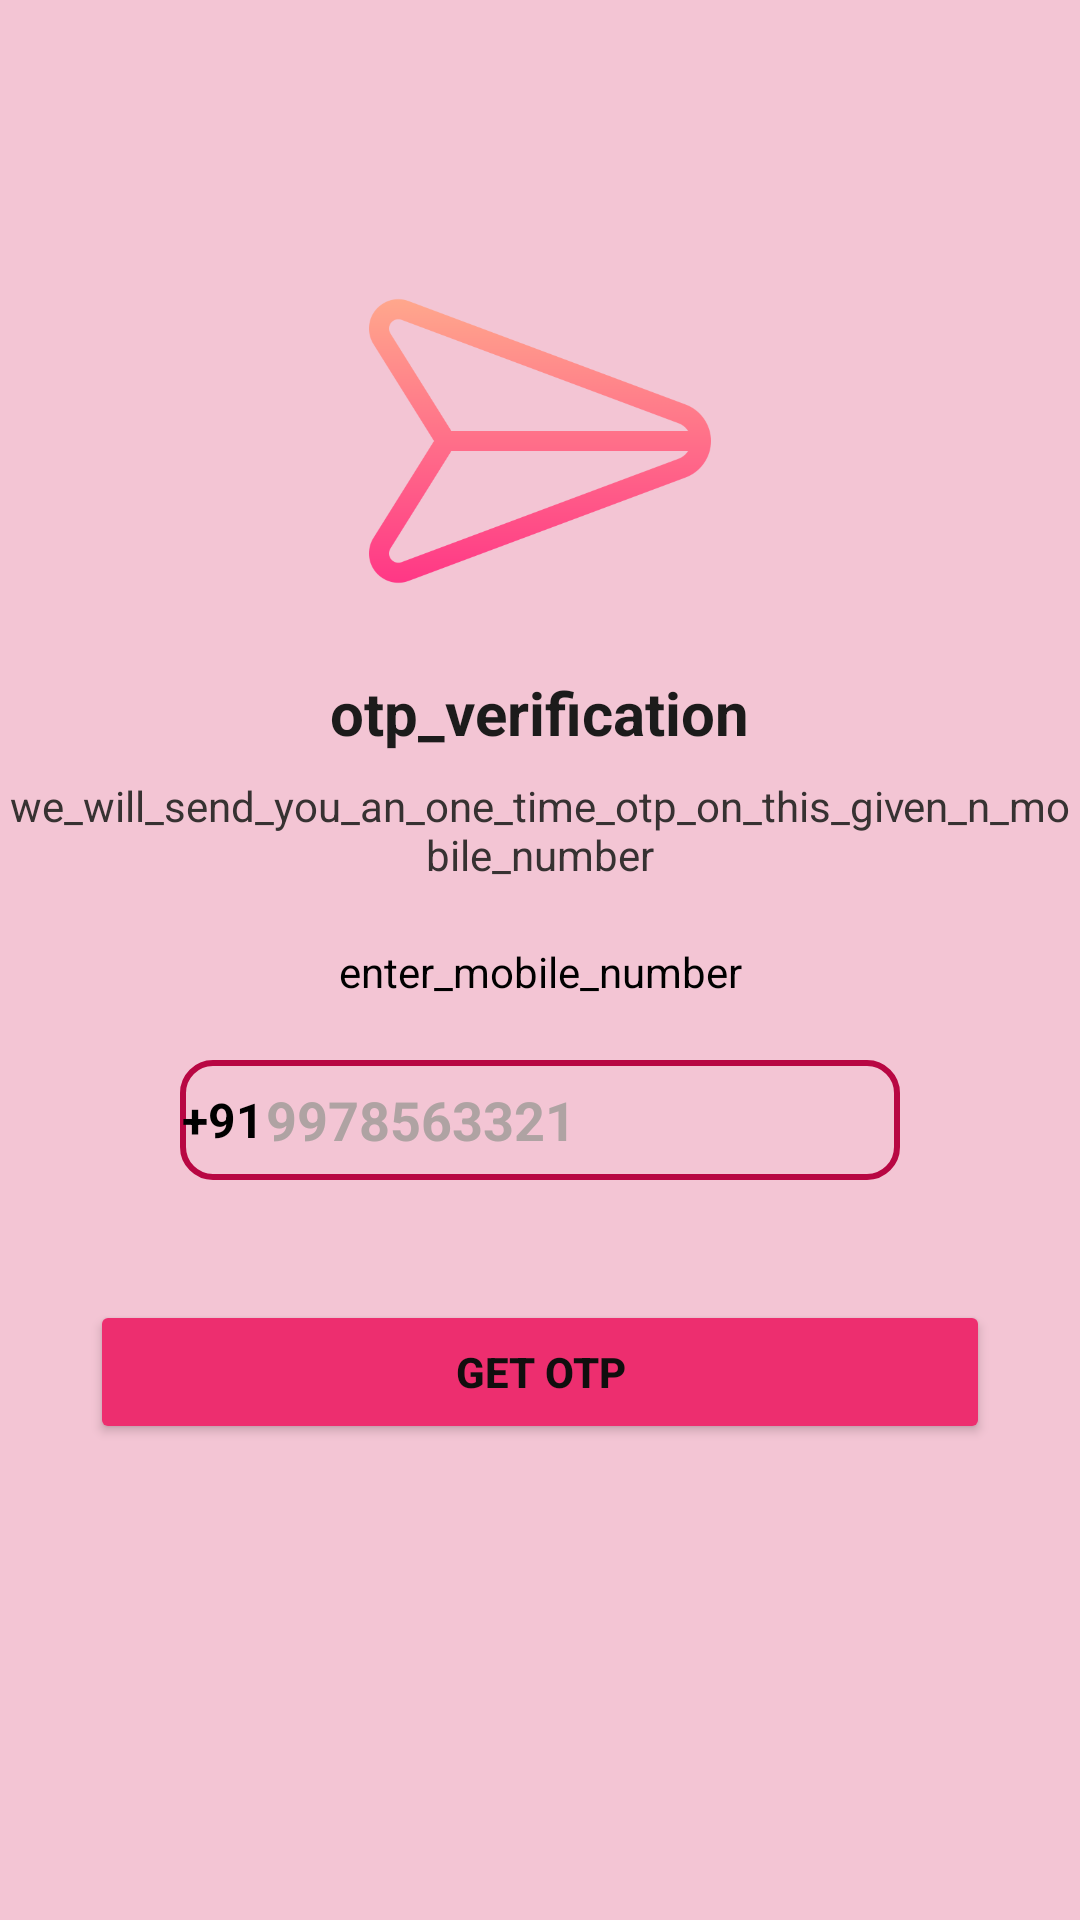

Locate icon controls on the screen. Image size 1080w x 1920h, boxes as (x1, y1, x2, y2).
send: (369, 299, 711, 583)
